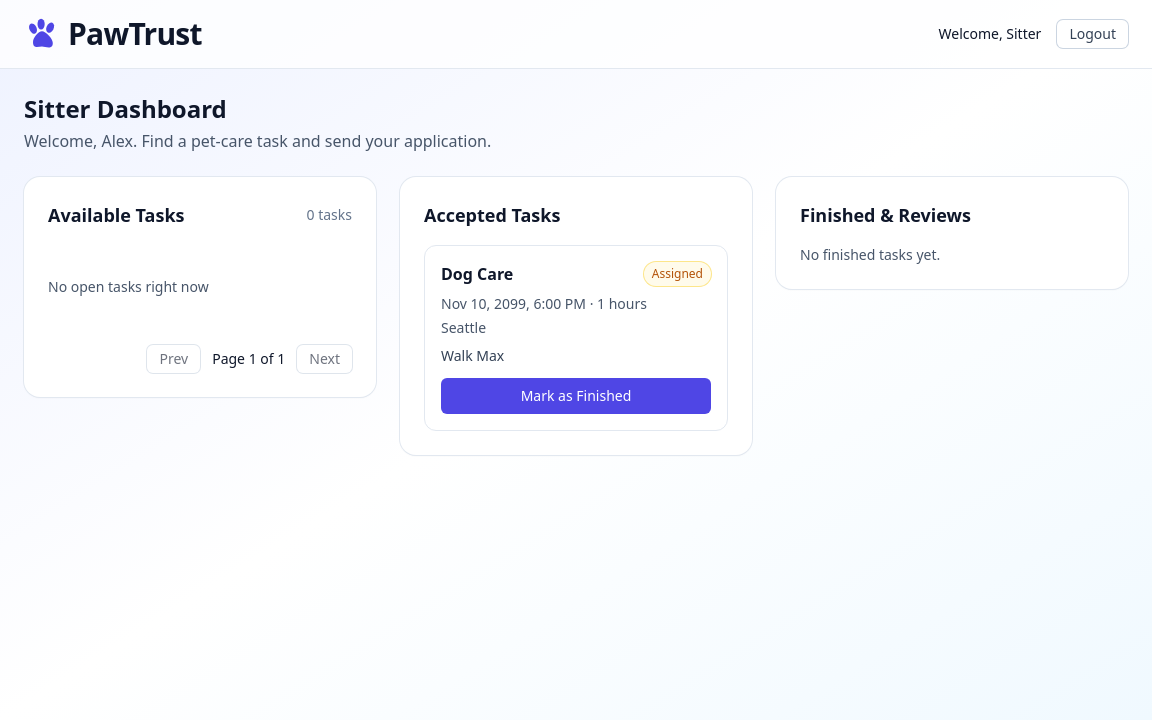
disables the button immediately and prevents duplicate submissions
Double-click the button "Mark as Finished": (576, 396) [441,378,711,414]
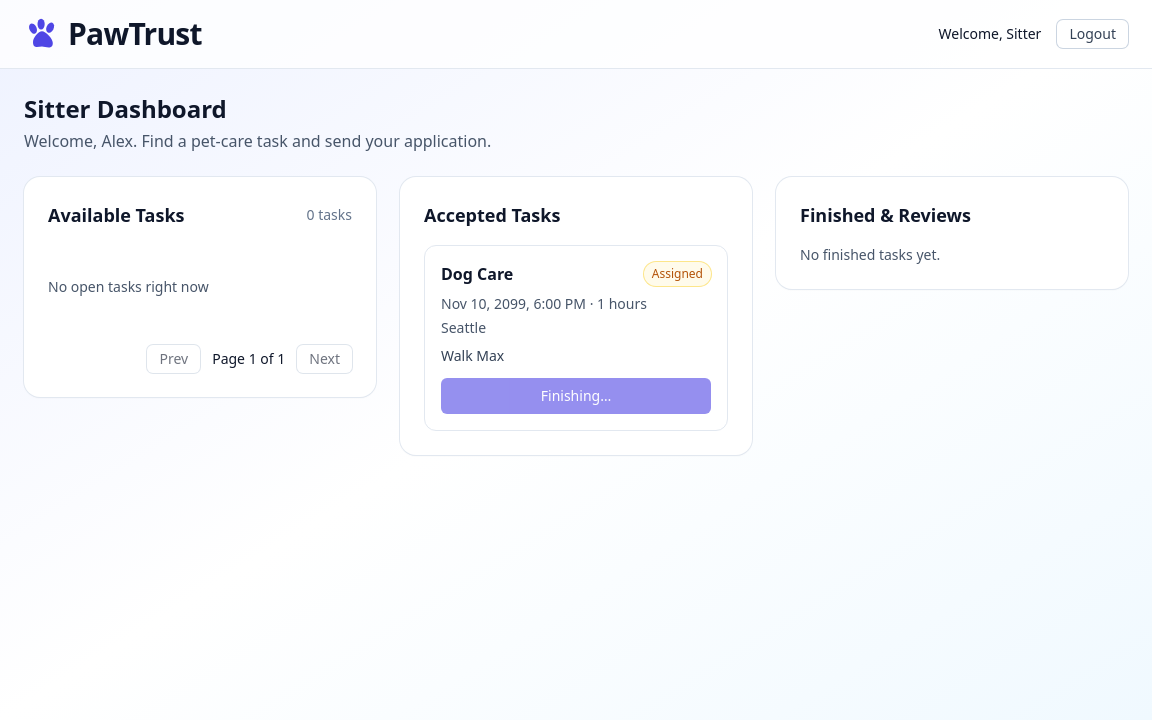
Now the button "Finishing…" is disabled, box [441,378,711,414]
